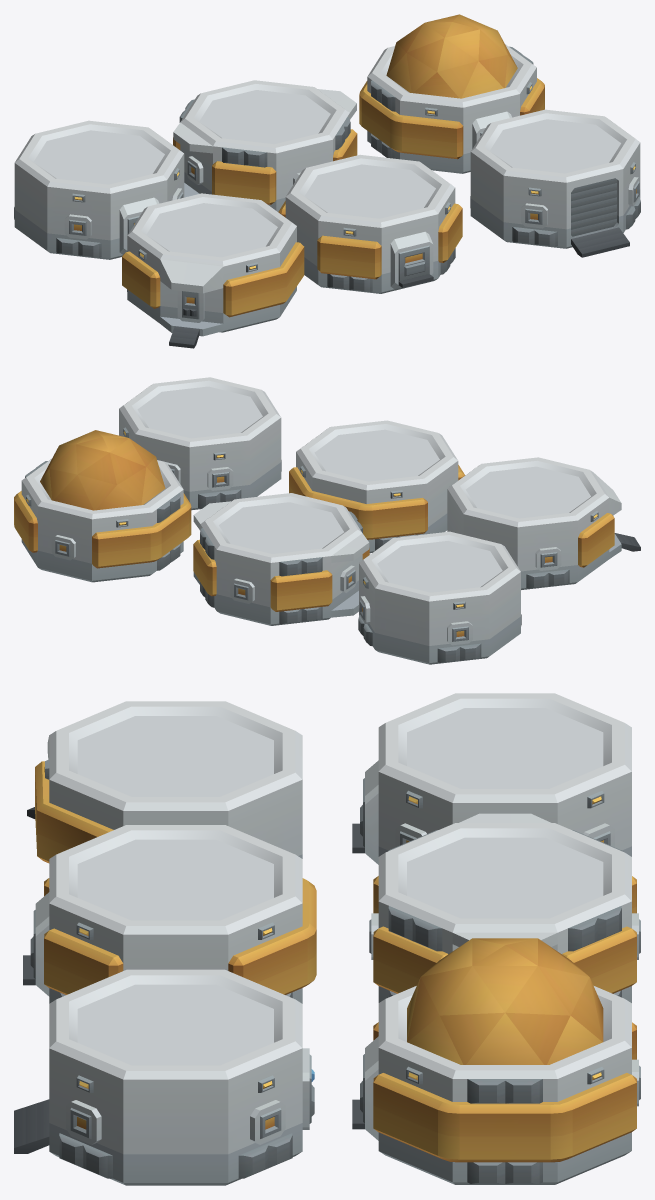
File: pp-base-modules.glb
The picture shows the model from 3 angles, top to bottom: view 1: azimuth 30°, elevation 25°; view 2: azimuth 150°, elevation 25°; view 3: azimuth 270°, elevation 25°; orthographic projection. The views are drawn at different scales.
Visible parts, largest first — view 1: basemodule_A, basemodule_B, basemodule_E, basemodule_garage, basemodule_C, basemodule_D, basemodule_garage_door; view 2: basemodule_E, basemodule_D, basemodule_C, basemodule_A, basemodule_garage, basemodule_B; view 3: basemodule_E, basemodule_garage, basemodule_B, basemodule_D, basemodule_C, basemodule_A.
Part boxes in pixels (x1,y1,x2,y2): basemodule_A: [122, 193, 304, 348]; basemodule_B: [278, 154, 462, 293]; basemodule_E: [359, 14, 544, 173]; basemodule_garage: [470, 109, 640, 257]; basemodule_C: [14, 120, 184, 259]; basemodule_D: [173, 80, 357, 211]; basemodule_garage_door: [571, 178, 616, 236]; basemodule_E: [14, 430, 191, 582]; basemodule_D: [193, 493, 369, 625]; basemodule_C: [358, 531, 521, 664]; basemodule_A: [447, 457, 640, 589]; basemodule_garage: [119, 377, 281, 510]; basemodule_B: [289, 420, 465, 553]; basemodule_E: [352, 938, 640, 1184]; basemodule_garage: [14, 969, 314, 1185]; basemodule_B: [23, 825, 316, 1003]; basemodule_D: [369, 813, 640, 1002]; basemodule_C: [352, 693, 631, 864]; basemodule_A: [27, 701, 302, 863].
Size of the model in its own units: 1.63 by 0.368 by 1.1.
1 material, 1 textured.
